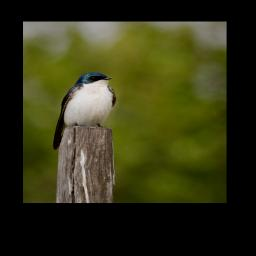Swallow: (52, 68, 119, 151)
